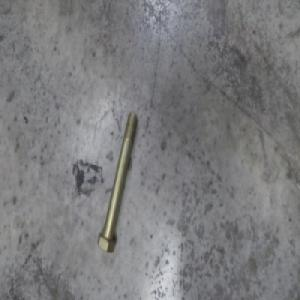Bolt: (95, 108, 138, 248)
